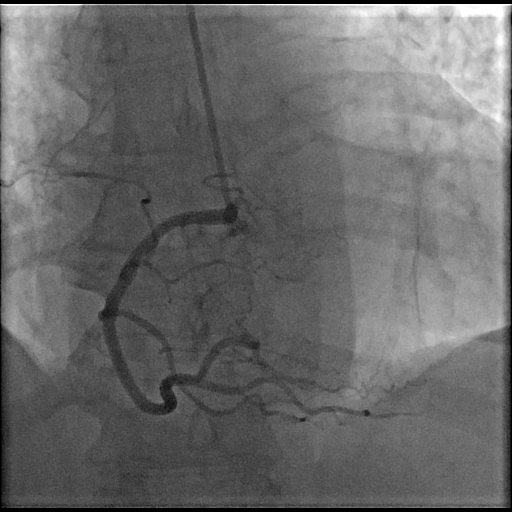RCA: (97, 207, 371, 422)
catherter: (185, 5, 233, 211)
